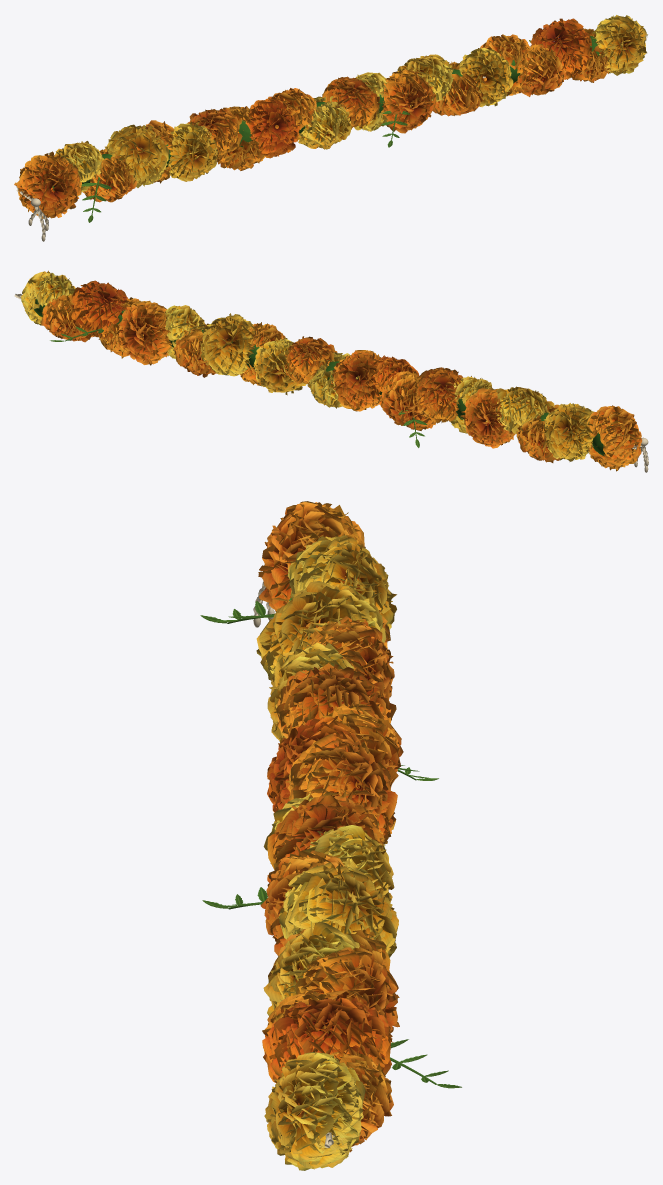
Rendered from garland_marigold_hero.glb.
The picture shows the model from 3 angles, top to bottom: view 1: azimuth 30°, elevation 25°; view 2: azimuth 150°, elevation 25°; view 3: azimuth 270°, elevation 25°; orthographic projection. The views are drawn at different scales.
Visible parts, largest first — view 1: garland_marigold_hero; view 2: garland_marigold_hero; view 3: garland_marigold_hero.
Part boxes in pixels (<box>): garland_marigold_hero: <box>14,15,647,241</box>; garland_marigold_hero: <box>14,270,648,472</box>; garland_marigold_hero: <box>200,501,461,1170</box>.
Size of the model in its own units: 0.8249 by 0.0921 by 0.1505.
3 materials, 3 textured.
